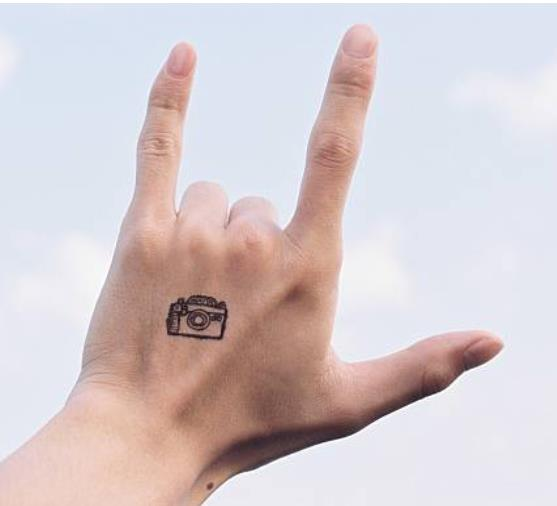back: (76, 19, 512, 432)
